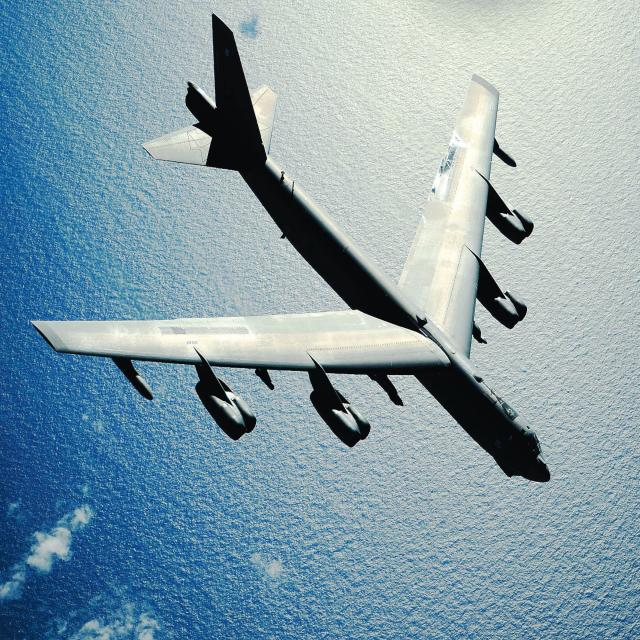B52: (10, 6, 629, 473)
